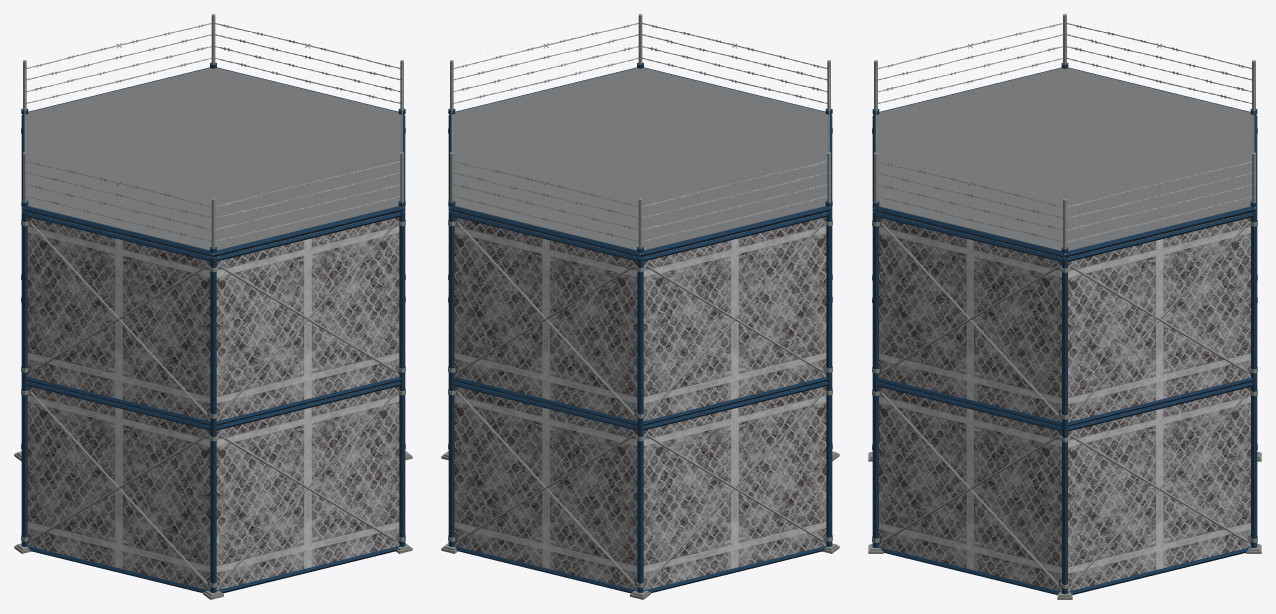
The model's file is pier.glb.
The picture shows the model from 3 angles, left to right: view 1: azimuth 30°, elevation 25°; view 2: azimuth 150°, elevation 25°; view 3: azimuth 270°, elevation 25°; orthographic projection.
Visible parts, largest first — view 1: pier-lod0-base0, pier-lod0-floor0, pier-lod0-roof0; view 2: pier-lod0-base0, pier-lod0-floor0, pier-lod0-roof0; view 3: pier-lod0-base0, pier-lod0-floor0, pier-lod0-roof0.
Part boxes in pixels (x1,y1,x2,y2): pier-lod0-base0: (14,296,412,599); pier-lod0-floor0: (21,127,405,427); pier-lod0-roof0: (21,14,405,257); pier-lod0-base0: (441,296,839,599); pier-lod0-floor0: (448,127,832,427); pier-lod0-roof0: (448,14,832,257); pier-lod0-base0: (868,297,1261,599); pier-lod0-floor0: (872,128,1257,428); pier-lod0-roof0: (872,14,1257,257).
Size of what is drawn, in the model's own units: 43.53 by 42.2 by 37.9.
6 materials, 6 textured.
